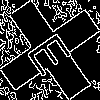E: (25, 25, 81, 78)
